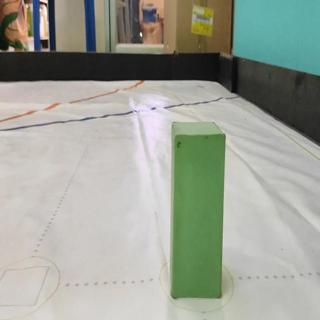greenbox: (169, 121, 226, 299)
